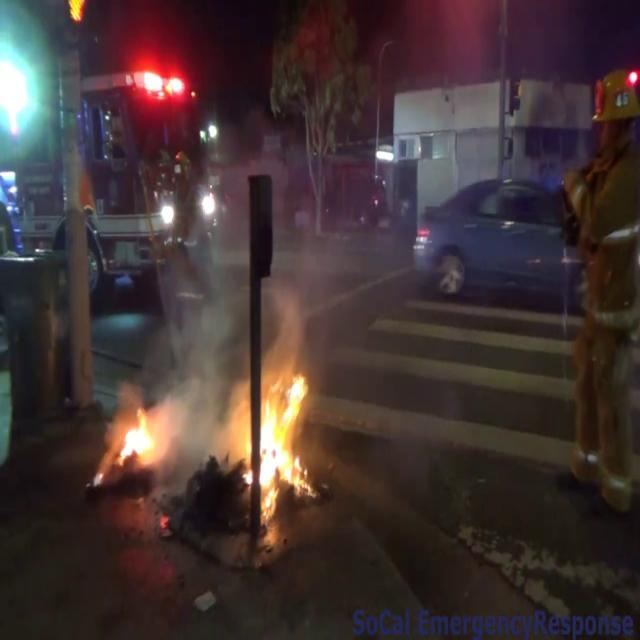Fire: (236, 362, 314, 507), (112, 398, 164, 476)
Smoke: (163, 130, 397, 394)
